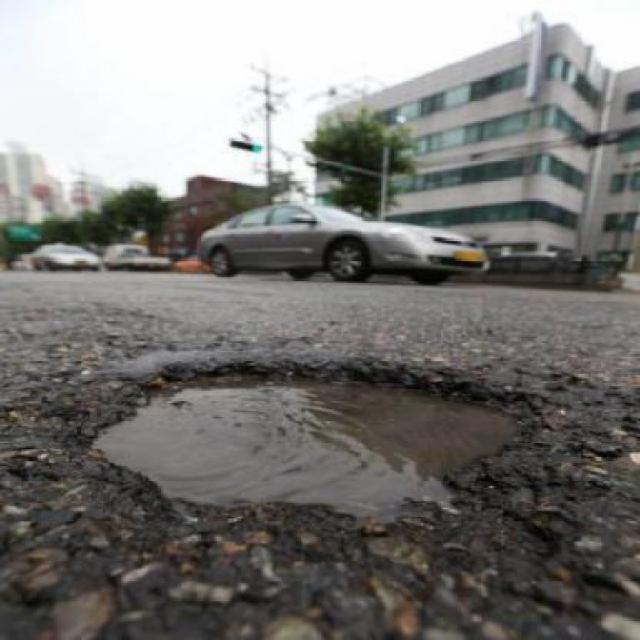Pothole: (77, 351, 549, 532)
